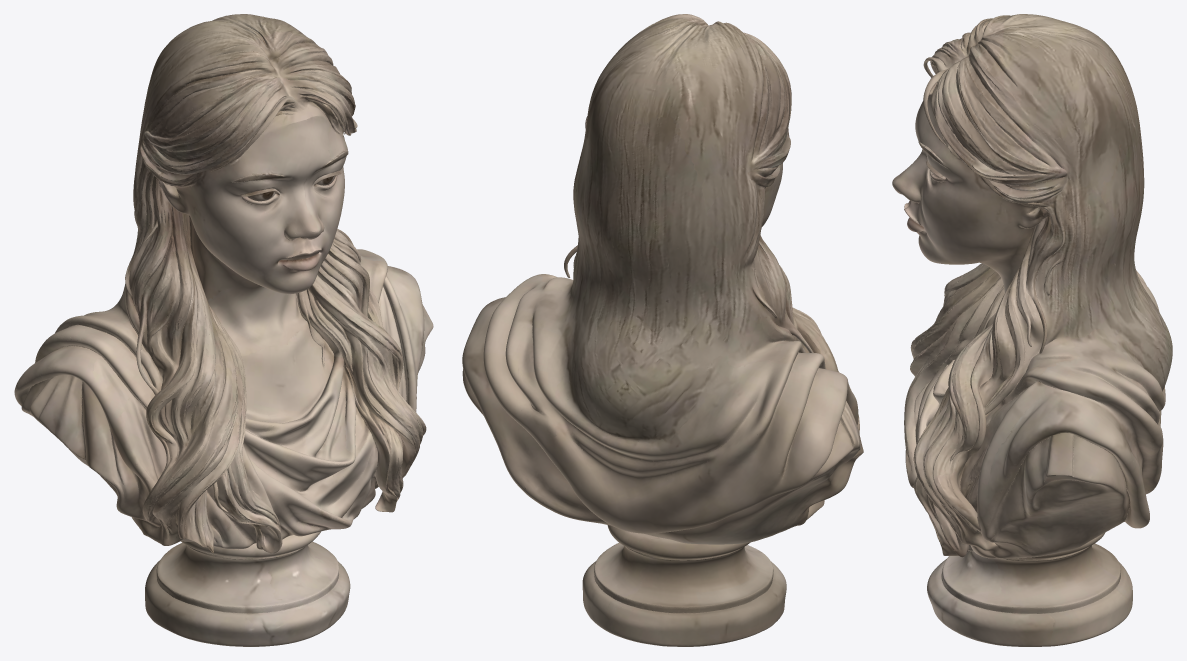
3 views of the same model, side by side, from view 1: azimuth 30°, elevation 25°; view 2: azimuth 150°, elevation 25°; view 3: azimuth 270°, elevation 25° (orthographic).
Parts seen in each view (by area): view 1: model; view 2: model; view 3: model.
Part boxes in pixels (x1=…): model: x1=14, y1=14, x2=433, y2=646; model: x1=462, y1=14, x2=863, y2=646; model: x1=892, y1=14, x2=1172, y2=646.
Bounding box in the file's own units: 1.33 × 1.9 × 0.8315.
Materials: 1 (1 with a texture image).
